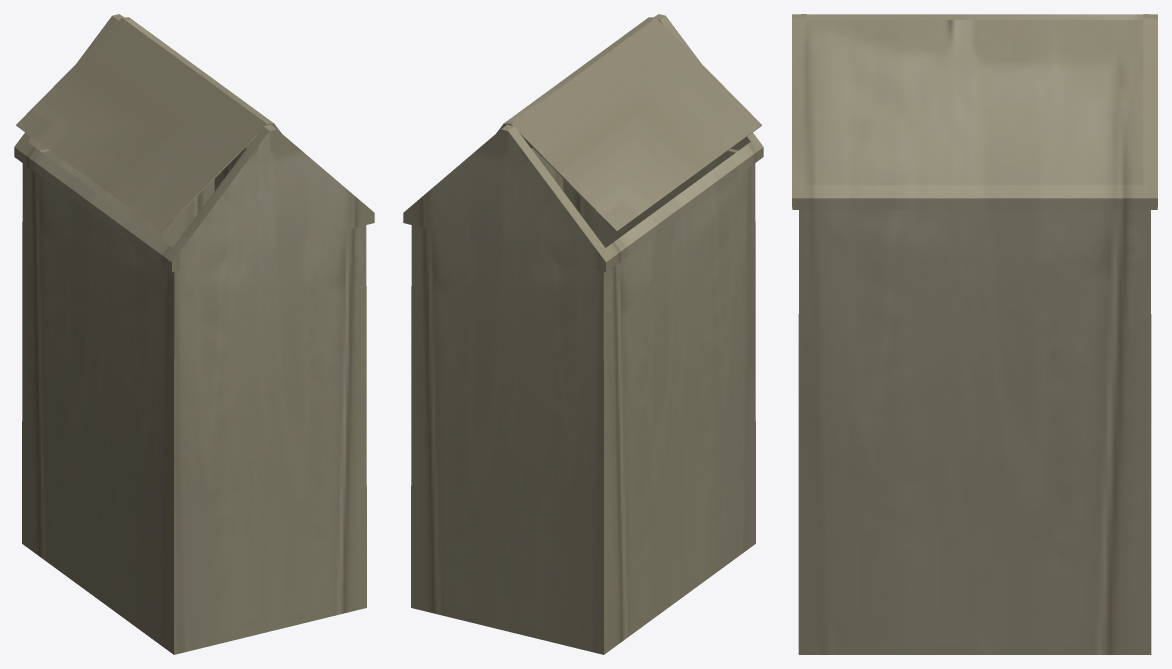
The model's file is Trashcan2.FBX.
3 renders of one model, left to right at view 1: azimuth 30°, elevation 25°; view 2: azimuth 150°, elevation 25°; view 3: azimuth 270°, elevation 25°, orthographic. The views are drawn at different scales.
Visible parts, largest first — view 1: Trashcan2; view 2: Trashcan2; view 3: Trashcan2.
Boxes of the visible parts, box(x1,y1,x2,y2) form: Trashcan2: box(14, 14, 374, 654); Trashcan2: box(403, 14, 763, 654); Trashcan2: box(792, 14, 1157, 654).
Bounding box in the file's own units: 21.07 × 48.97 × 27.71.
